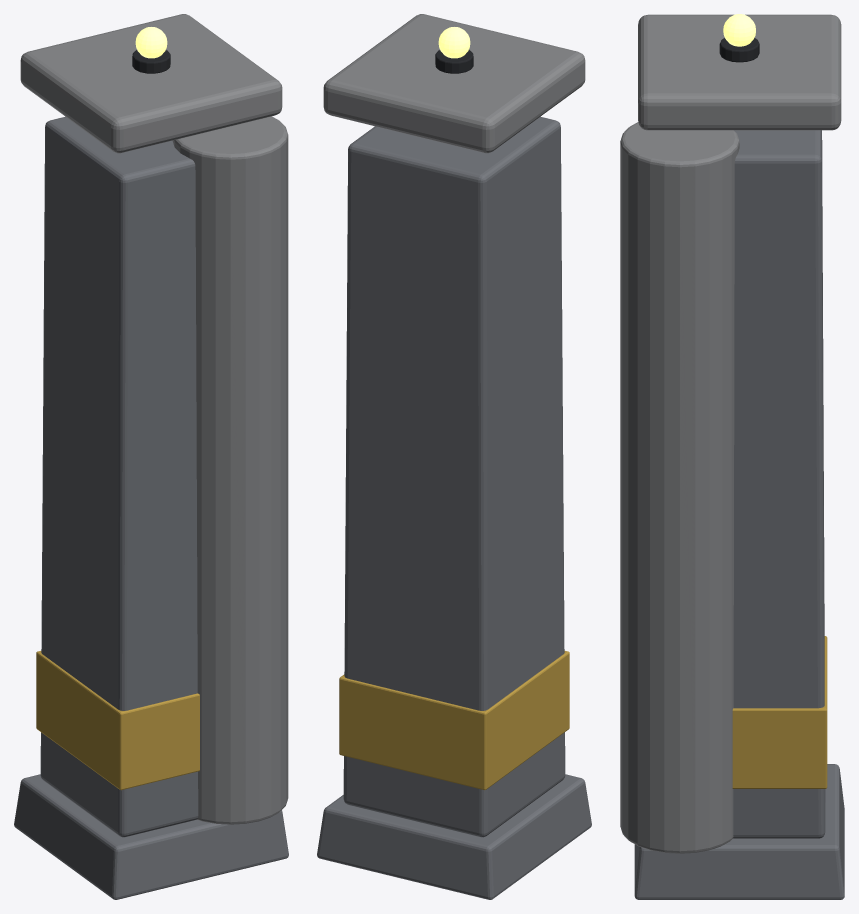
The model's file is sm_wall_corner.fbx.
3 renders of one model, left to right at view 1: azimuth 30°, elevation 25°; view 2: azimuth 150°, elevation 25°; view 3: azimuth 270°, elevation 25°, orthographic. The views are drawn at different scales.
Visible parts, largest first — view 1: SM_Wall_Corner; view 2: SM_Wall_Corner; view 3: SM_Wall_Corner.
Boxes of the visible parts, x1=… form: SM_Wall_Corner: x1=14, y1=14, x2=288, y2=899; SM_Wall_Corner: x1=317, y1=14, x2=591, y2=899; SM_Wall_Corner: x1=620, y1=14, x2=844, y2=899.
Bounding box in the file's own units: 101 × 419 × 101.
